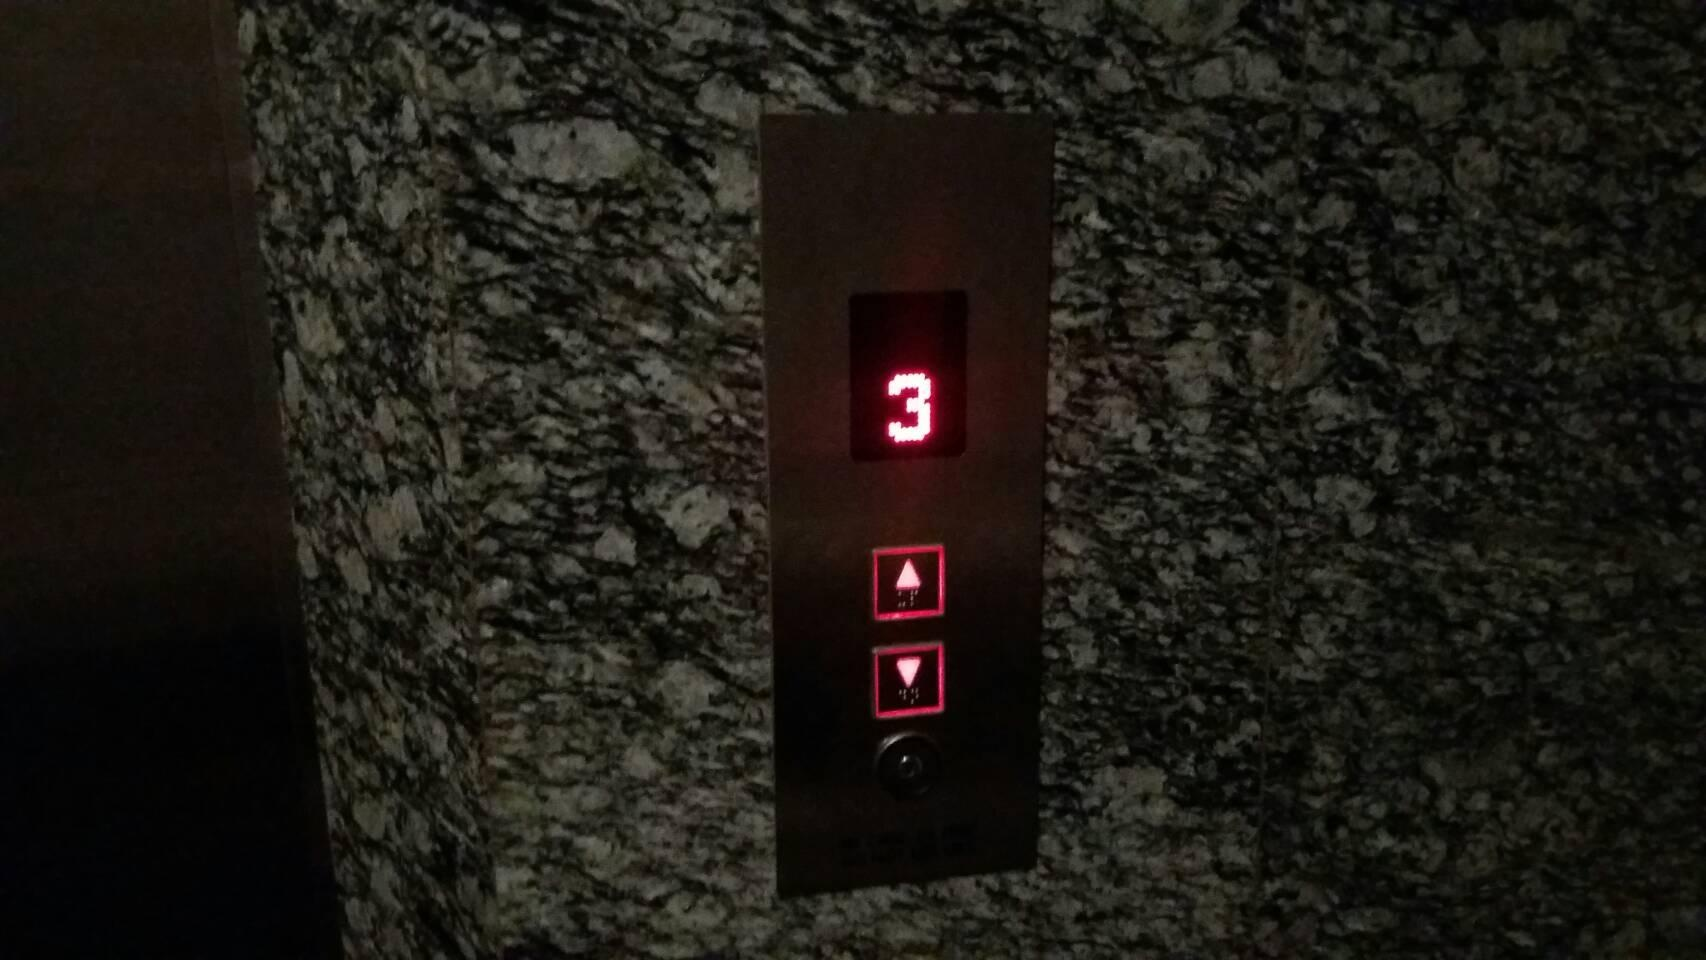down: (867, 635, 948, 720)
led: (840, 281, 973, 478)
up: (866, 540, 947, 625)
